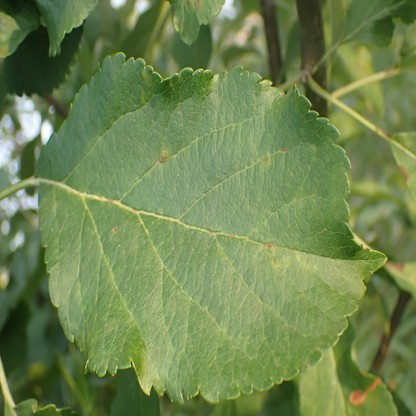frogeye_leaf_spot: (349, 391, 367, 405), (387, 261, 404, 273), (399, 164, 408, 184), (369, 376, 380, 389)
scab: (262, 243, 290, 274), (188, 0, 203, 14), (141, 68, 152, 87), (297, 250, 309, 267), (260, 153, 271, 168), (158, 148, 168, 164)
